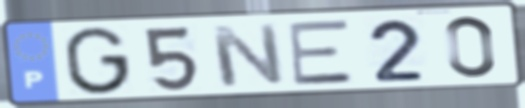0: (443, 14, 498, 79)
2: (361, 14, 433, 86)
5: (140, 23, 202, 92)
E: (285, 18, 358, 87)
G: (63, 25, 133, 97)
N: (206, 22, 288, 89)
